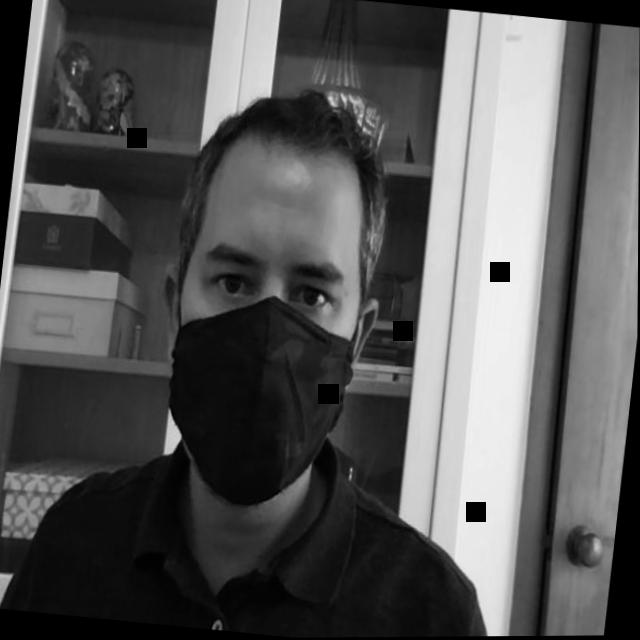Mask: (146, 74, 396, 510)
